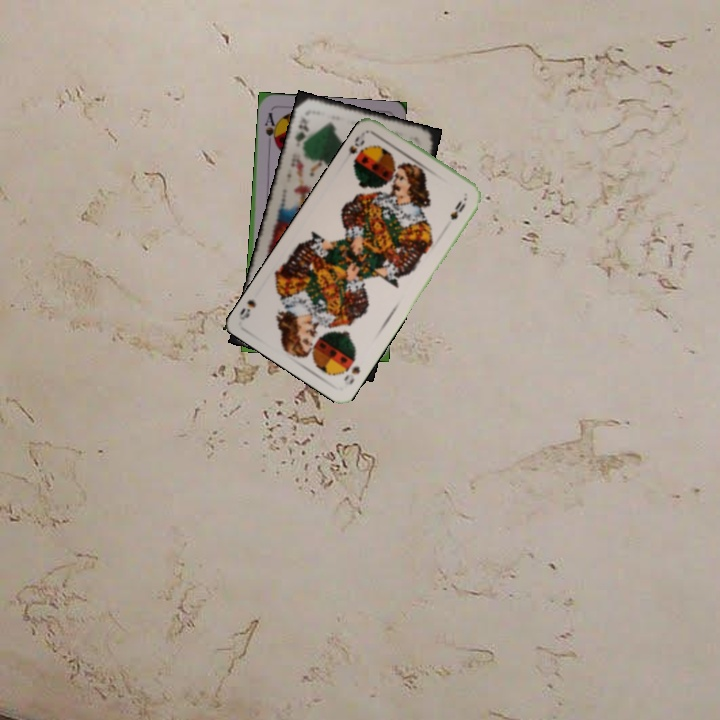GK: (291, 114, 311, 150)
SA: (260, 108, 280, 148)
SO: (341, 127, 368, 168), (340, 362, 363, 387)
